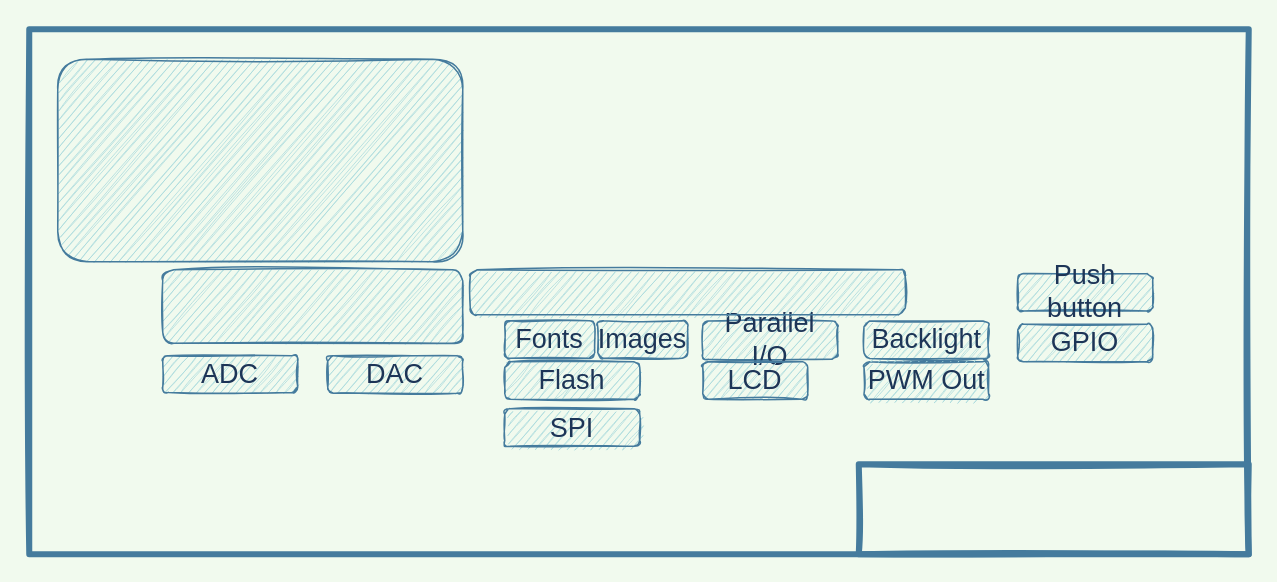
The diagram is 1277 pixels wide and 582 high, and some of its shapes have lost their labels. The shapes that lost their labels are listed below. From the top down, each one's centre as x and y in pixels, then its label:
At [259,160]: "Signal Processing".
At [312,305]: "Sound effect mode manager".
At [687,291]: "Rendering".
At [1053,508]: "Layered software architecture diagram".
